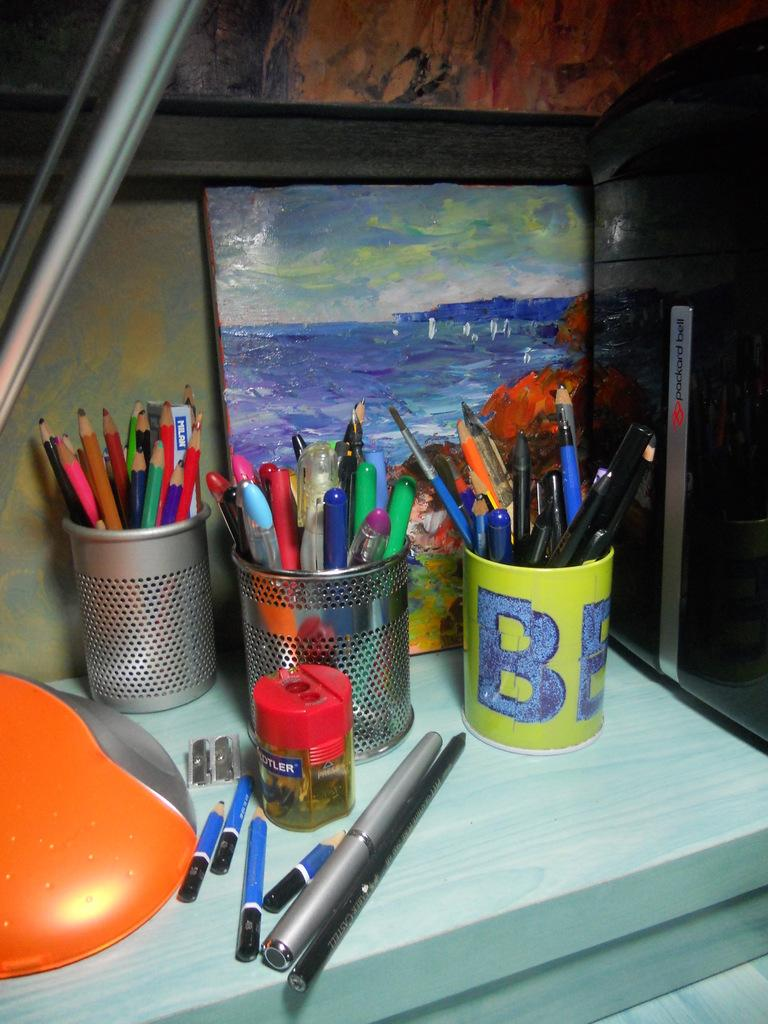pen: (205, 435, 420, 767), (261, 732, 452, 979), (412, 429, 663, 571)
